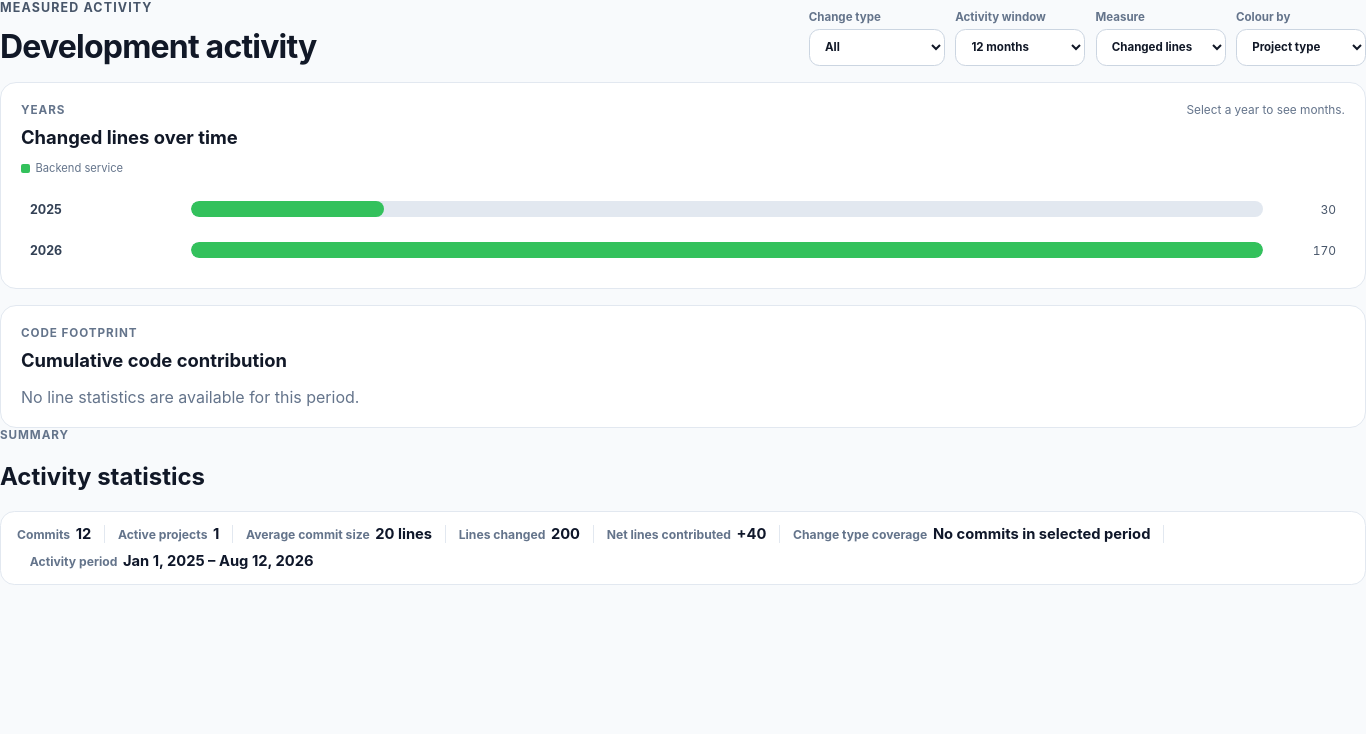
current Explore behaviour regression coverage › uses the shared year-to-month-to-week timeline inside Activity and opens projects from the selected period
Expected: the dropdown labelled "Activity window" shows "12 months", [955,29,1085,66]
Expected: the dropdown labelled "Measure" shows "Changed lines", [1096,29,1226,66]
Click the button "2026 170" at coordinates (683, 250), box [21,233,1345,268]
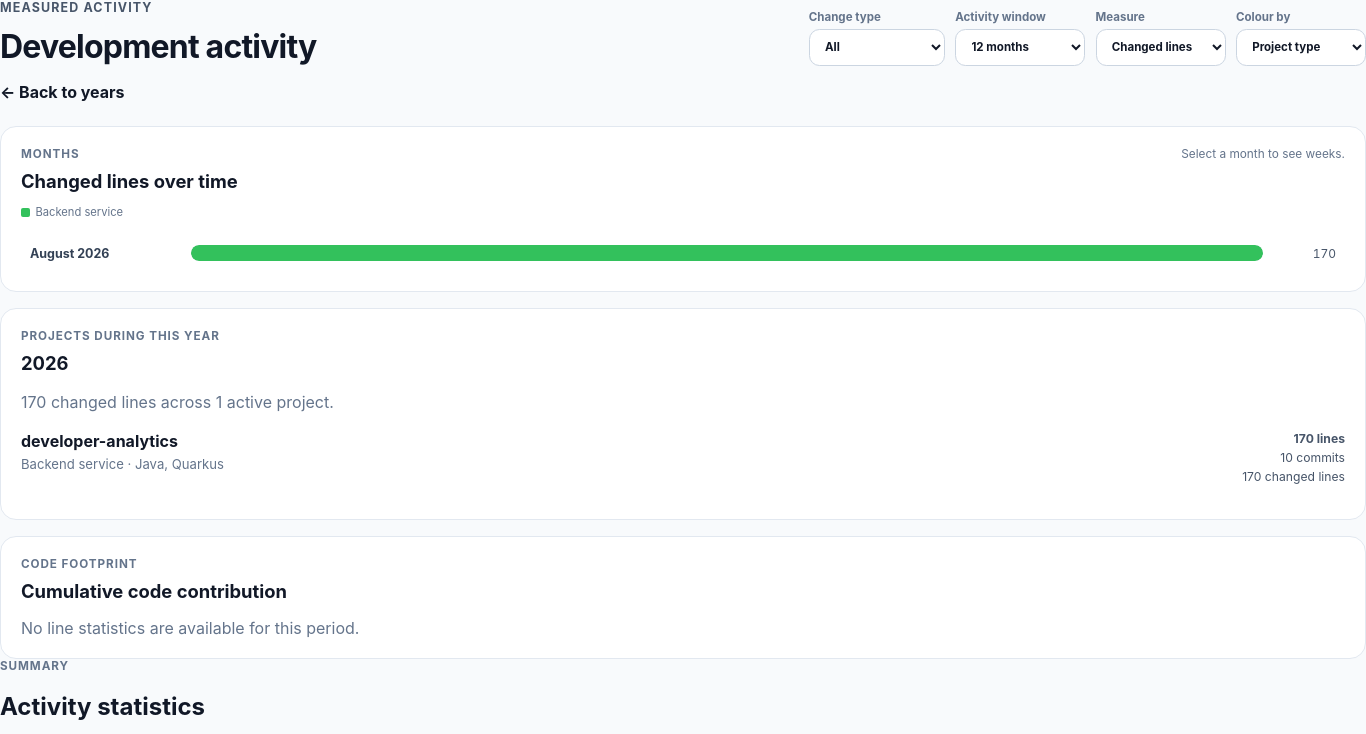
Expected: the button "August 2026 170" is shown
Expected: the text "170 changed lines across 1 active project." is shown, [21,392,334,412]
Click the button "August 2026 170" at coordinates (683, 253), box [21,235,1345,271]
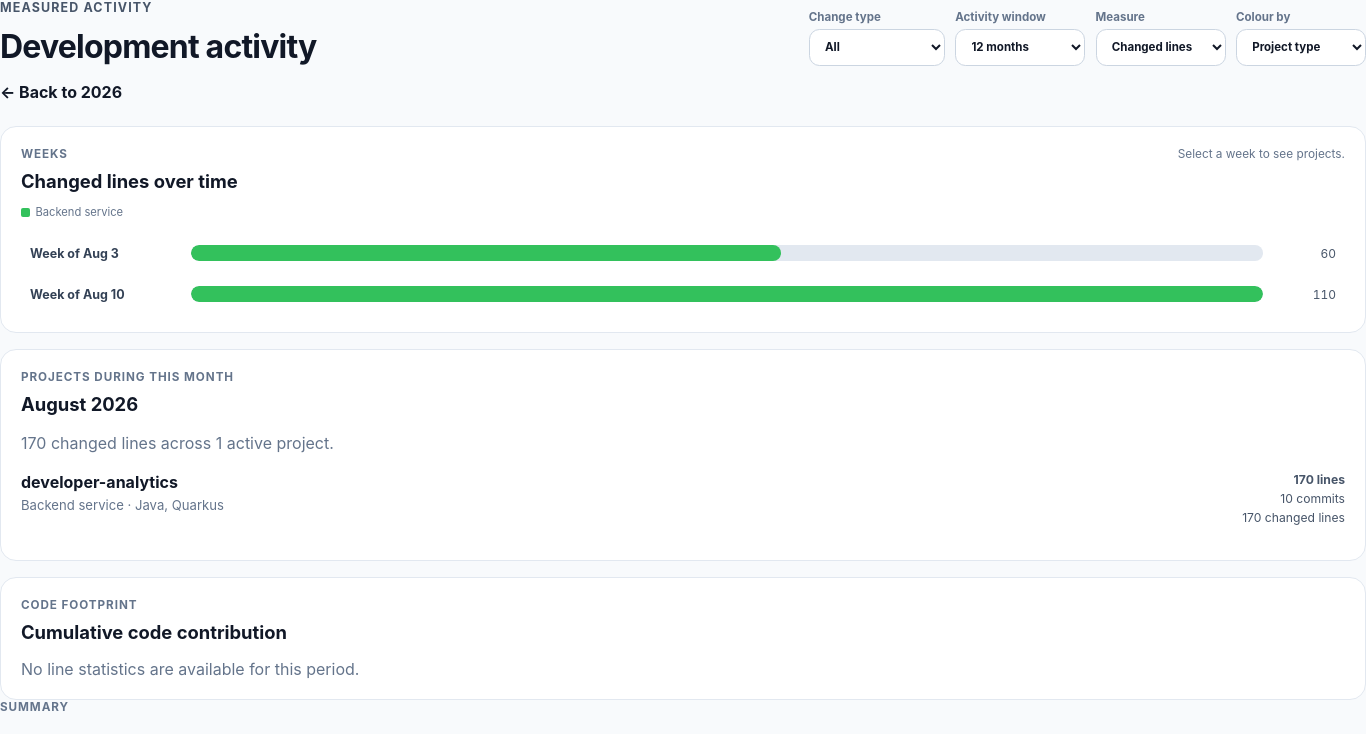
Expected: the button "Week of Aug 3 60" is shown
Click the button "Week of Aug 3 60" at coordinates (683, 253), box [21,235,1345,271]
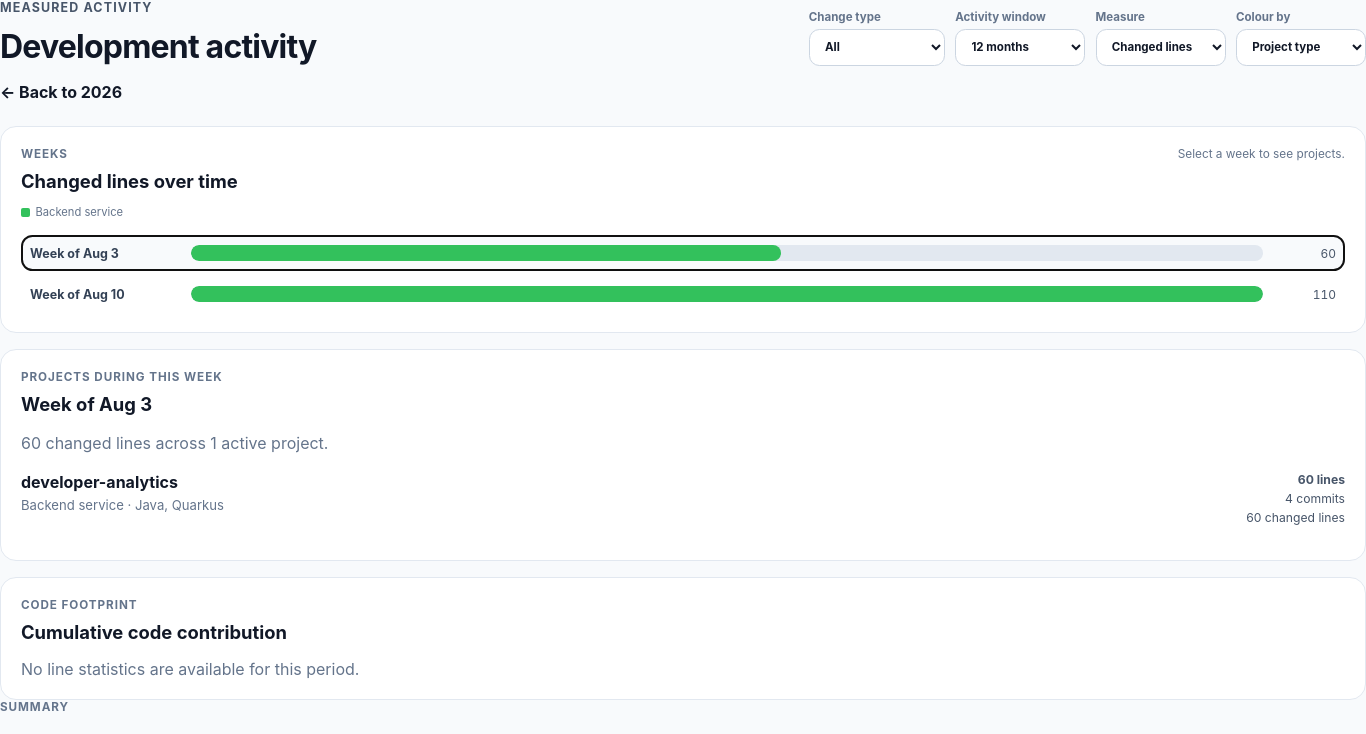
Expected: the text "60 changed lines across 1 active project." is shown, [21,433,328,453]
Click the button "developer-analytics" at coordinates (99, 482), box [21,472,178,492]
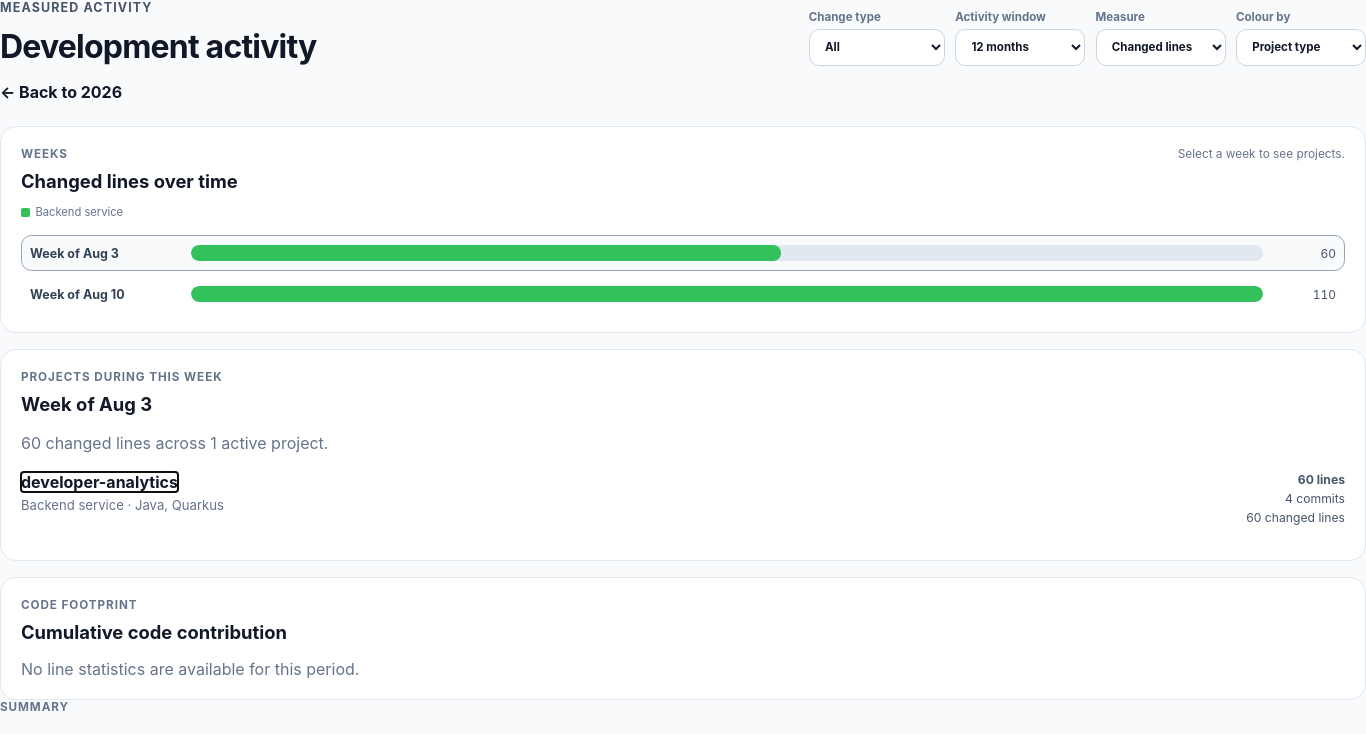
Select "Technology" in the dropdown labelled "Colour by" at coordinates (1301, 47), box [1236,29,1365,66]
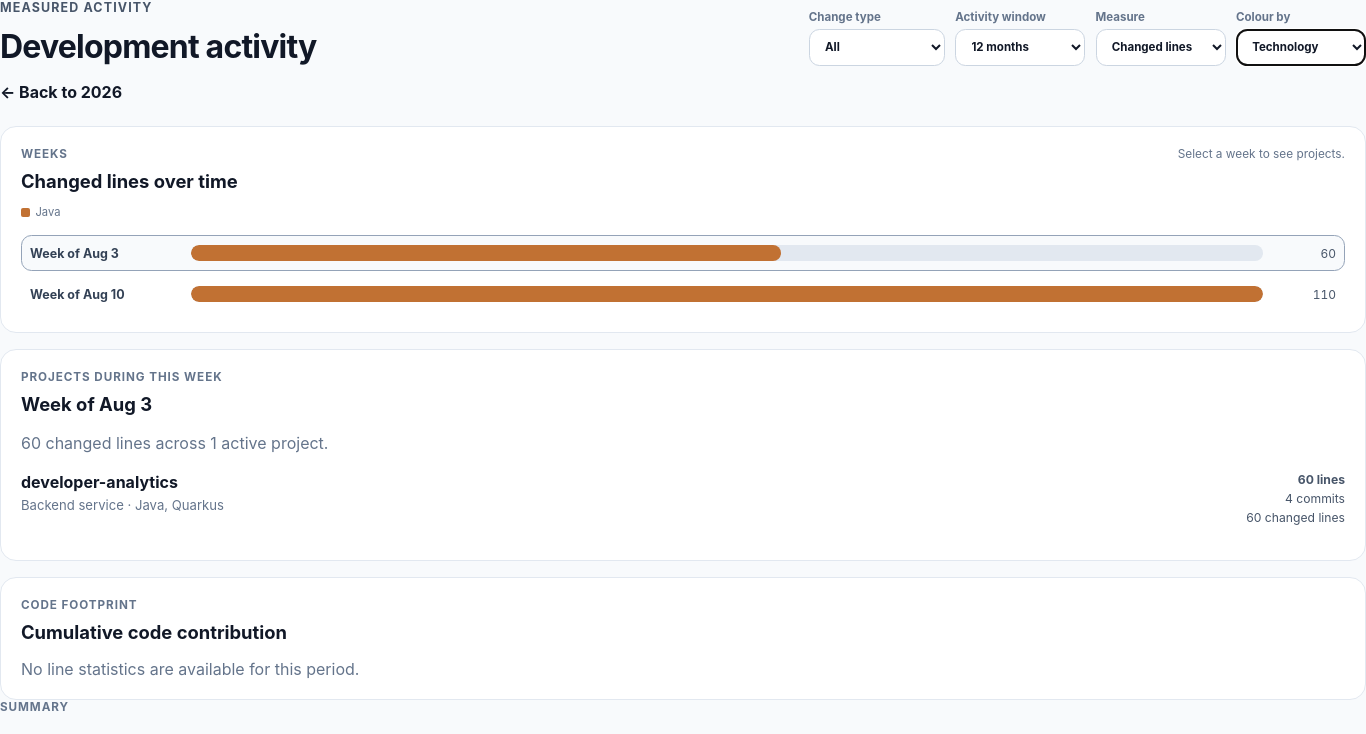
Expected: the text "Java" is shown, [21,205,60,219]
